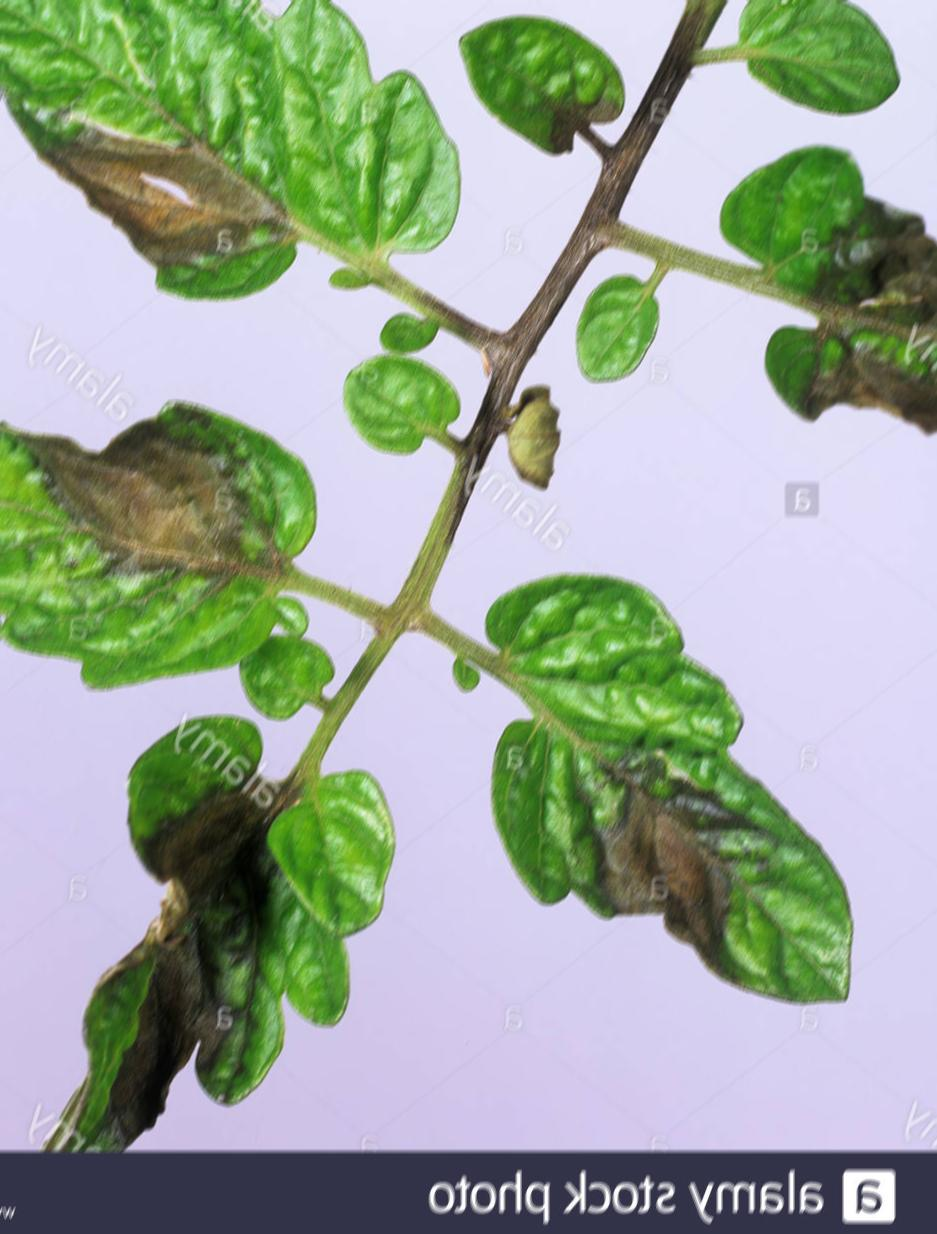Tomato leaf late blight: (455, 555, 866, 1031), (17, 697, 408, 1126), (0, 0, 466, 309), (0, 397, 328, 723)
